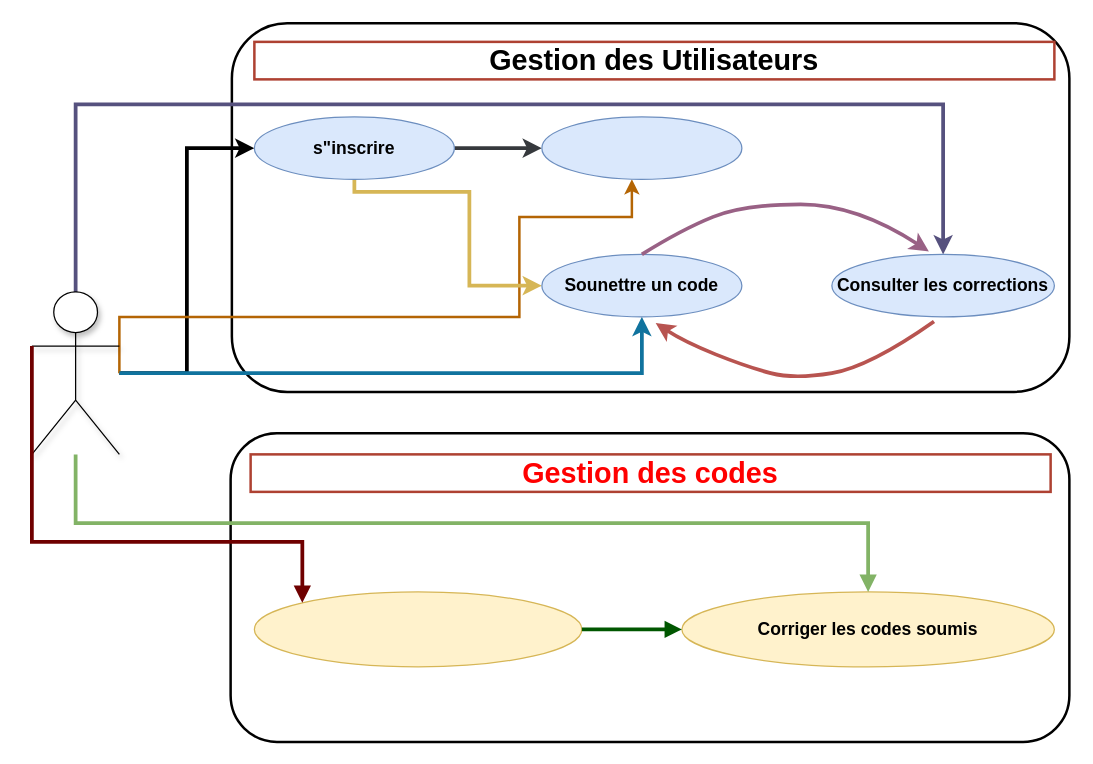
Some shapes in this 1093 by 764 pixel diagram are drawn without their labels. The centre of each missing label's shape, as x and y in pixels:
Proposer des codes personnalises: the point at 417,629
Se connecter: the point at 641,147
Utilisateur: the point at 76,374
